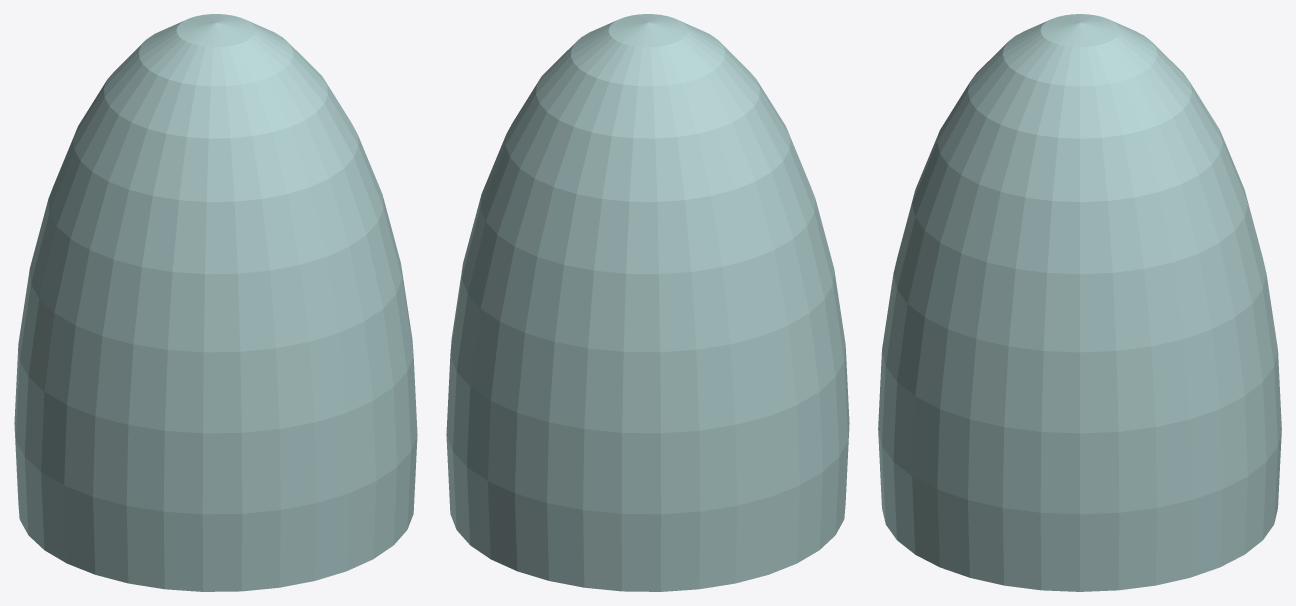
File: case4.gltf
3 renders of one model, left to right at view 1: azimuth 30°, elevation 25°; view 2: azimuth 150°, elevation 25°; view 3: azimuth 270°, elevation 25°, orthographic.
Visible parts, largest first — view 1: Sphere_n3d; view 2: Sphere_n3d; view 3: Sphere_n3d.
Part boxes in pixels (left/top/right/bottom): Sphere_n3d: left=14, top=14, right=417, bottom=591; Sphere_n3d: left=446, top=14, right=849, bottom=591; Sphere_n3d: left=878, top=14, right=1281, bottom=591.
Bounding box in the file's own units: 0.2 × 0.2653 × 0.2.
